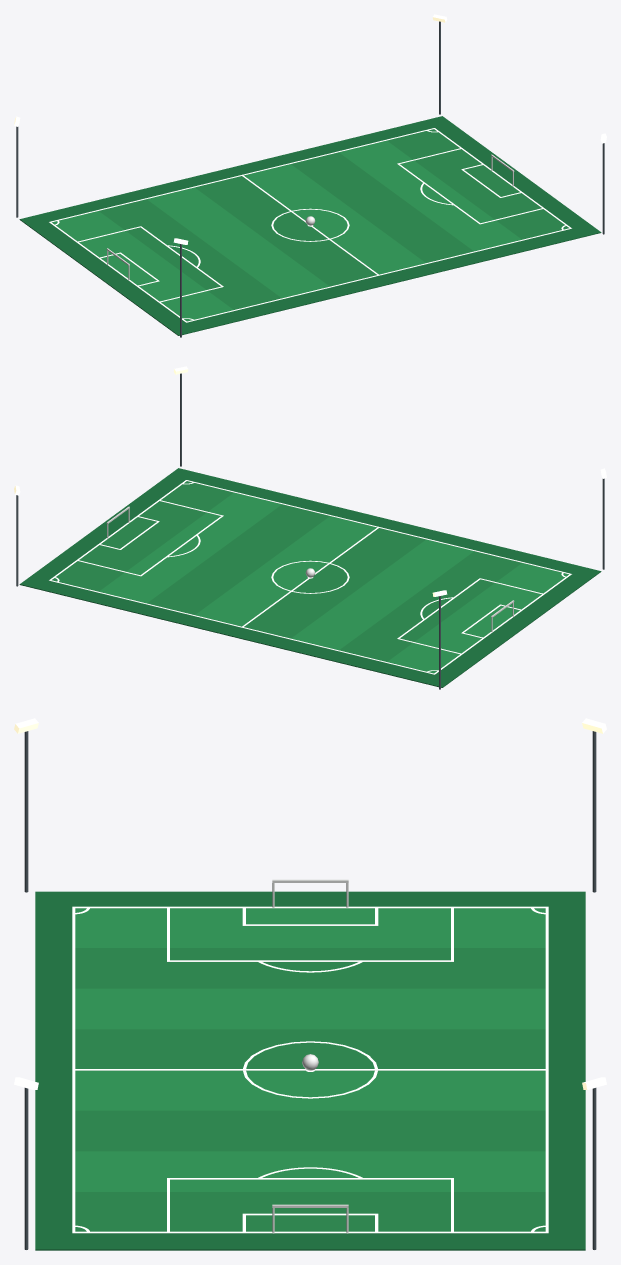
File: football-pitch.glb
The picture shows the model from 3 angles, top to bottom: view 1: azimuth 30°, elevation 25°; view 2: azimuth 150°, elevation 25°; view 3: azimuth 270°, elevation 25°; orthographic projection. The views are drawn at different scales.
Parts seen in each view (by area): view 1: object 1, object 4, object 7, object 8, object 5, object 9, object 6, object 3, object 2, object 10, object 11; view 2: object 1, object 4, object 7, object 8, object 5, object 9, object 6, object 3, object 2, object 10, object 11; view 3: object 1, object 4, object 7, object 6, object 8, object 3, object 5, object 2, object 9, object 13, object 12, object 10 (+7 smaller).
Part boxes in pixels (bbox=[...]): object 1: bbox=[19, 116, 601, 335]; object 4: bbox=[147, 187, 329, 298]; object 7: bbox=[291, 152, 473, 262]; object 8: bbox=[339, 140, 521, 251]; object 5: bbox=[195, 176, 376, 286]; object 9: bbox=[387, 129, 568, 239]; object 6: bbox=[244, 164, 425, 274]; object 3: bbox=[99, 199, 281, 309]; object 2: bbox=[52, 211, 233, 321]; object 10: bbox=[49, 128, 434, 222]; object 11: bbox=[186, 228, 570, 322]; object 1: bbox=[19, 468, 601, 687]; object 4: bbox=[291, 539, 473, 650]; object 7: bbox=[147, 504, 329, 614]; object 8: bbox=[99, 492, 281, 603]; object 5: bbox=[244, 528, 425, 638]; object 9: bbox=[52, 481, 233, 591]; object 6: bbox=[195, 516, 376, 626]; object 3: bbox=[339, 551, 521, 661]; object 2: bbox=[387, 563, 568, 673]; object 10: bbox=[49, 580, 435, 674]; object 11: bbox=[186, 480, 571, 574]; object 1: bbox=[35, 891, 585, 1250]; object 4: bbox=[75, 988, 545, 1029]; object 7: bbox=[75, 1110, 545, 1151]; object 6: bbox=[75, 1070, 545, 1110]; object 8: bbox=[75, 1151, 545, 1191]; object 3: bbox=[75, 948, 545, 988]; object 5: bbox=[75, 1029, 545, 1068]; object 2: bbox=[75, 908, 545, 947]; object 9: bbox=[75, 1192, 545, 1231]; object 13: bbox=[72, 1231, 548, 1233]; object 12: bbox=[72, 906, 548, 908]; object 10: bbox=[545, 906, 548, 1233].
Bounding box in the file's own units: 58.62 × 12.78 × 40.08.
